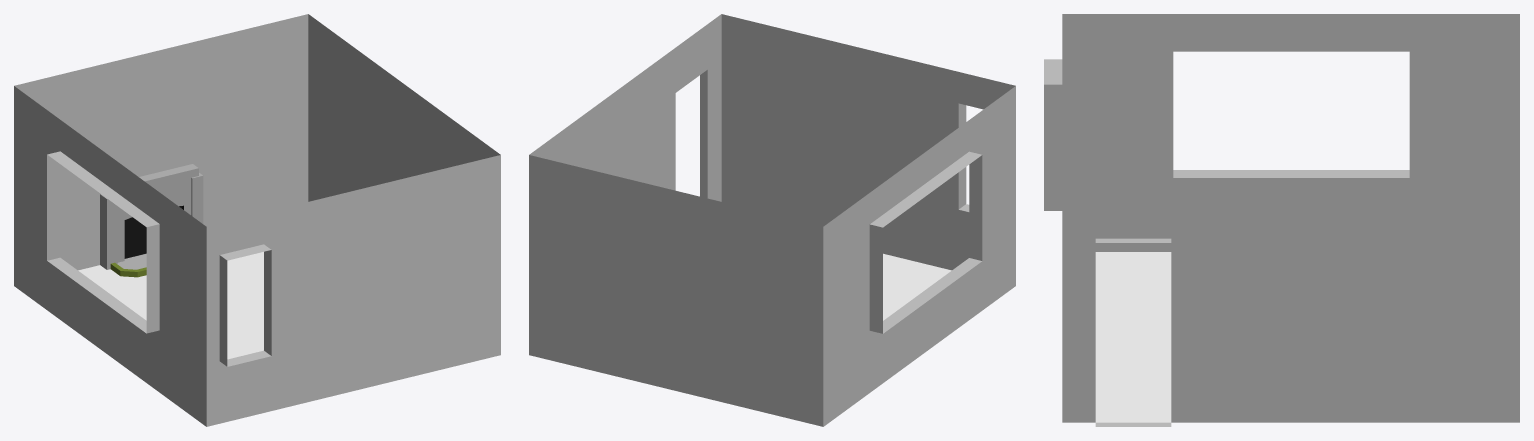
Rendered from dining_room_model.obj.
3 renders of one model, left to right at view 1: azimuth 30°, elevation 25°; view 2: azimuth 150°, elevation 25°; view 3: azimuth 270°, elevation 25°, orthographic. The views are drawn at different scales.
Visible parts, largest first — view 1: dining_room; view 2: dining_room; view 3: dining_room.
Boxes of the visible parts, x1=… form: dining_room: x1=14, y1=14, x2=500, y2=426; dining_room: x1=529, y1=14, x2=1015, y2=426; dining_room: x1=1044, y1=14, x2=1519, y2=426.
Bounding box in the file's own units: 0.0542 × 0.0329 × 0.0597.
5 materials, 1 textured.
